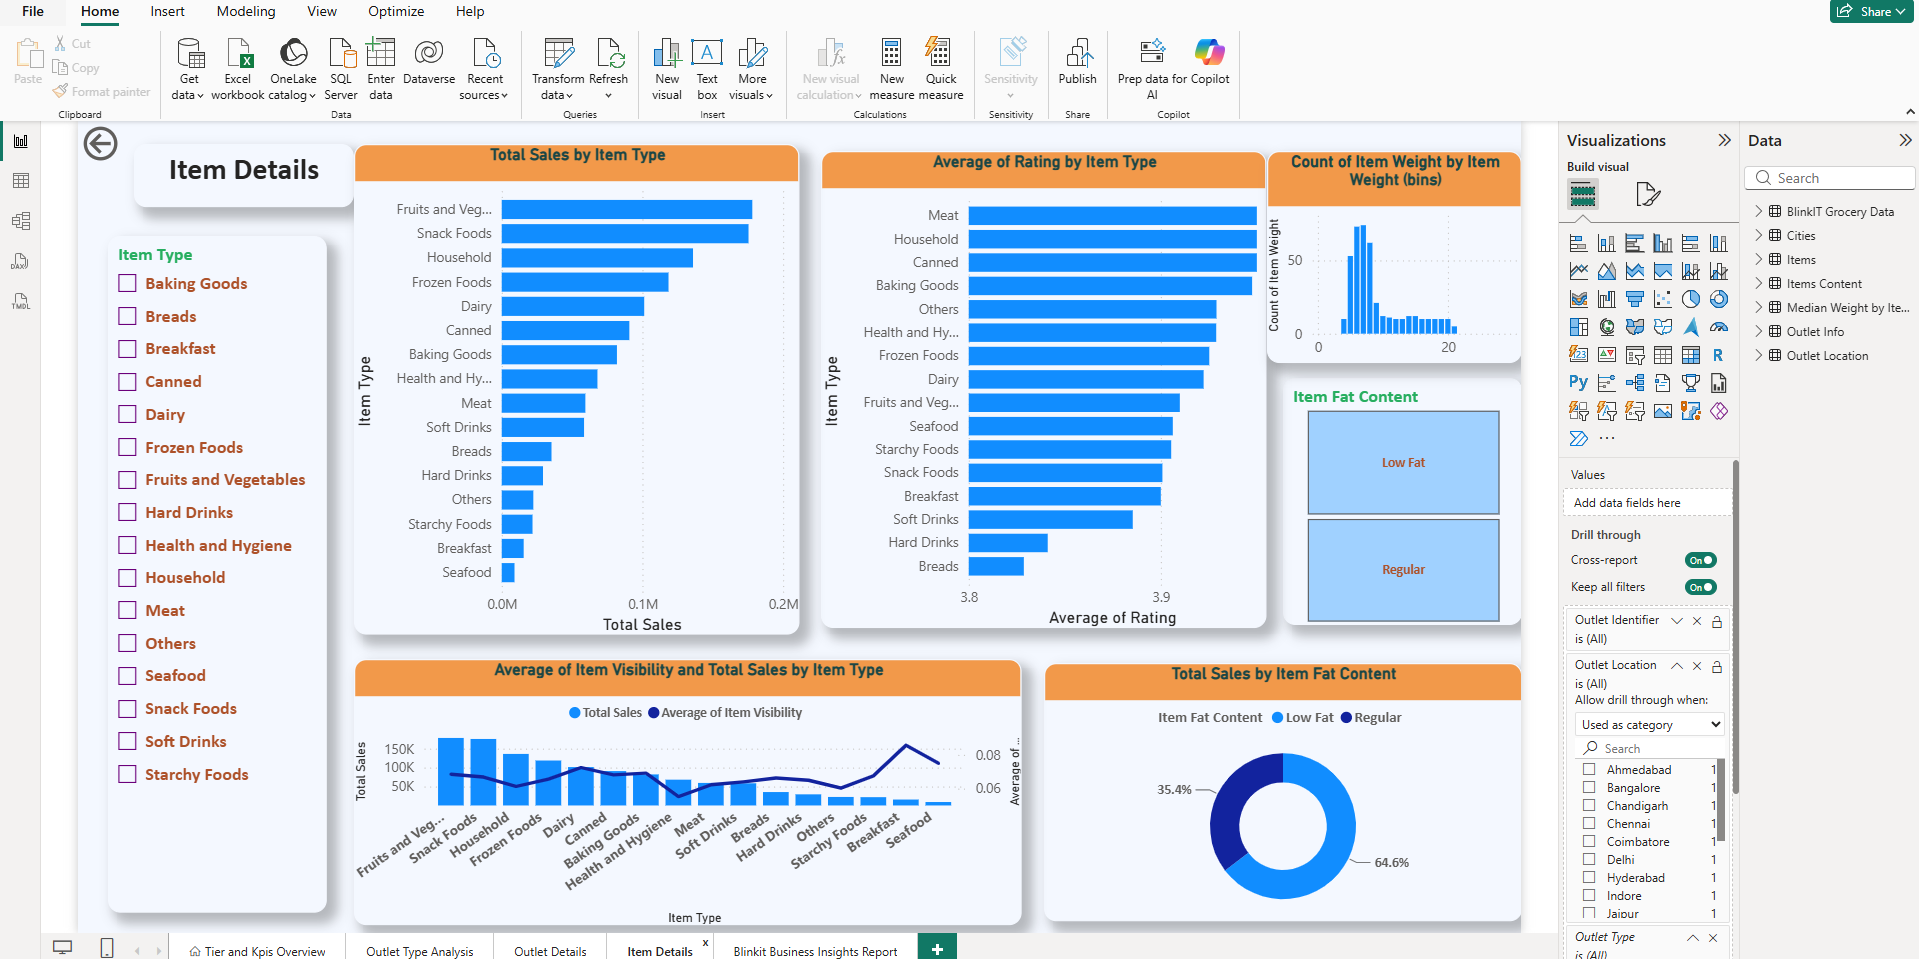

The page's visual inventory and layout, read from the dashboard file:
{"tool":"powerbi","page":{"name":"Item Details","canvas":[1280,720],"ordinal":3},"visuals":[{"type":"actionButton","box":[0,0,100,40],"z":0},{"type":"textbox","box":[50,20,195.4,56.2],"z":1000},{"type":"slicer","fields":{"Values":["Items.Item Type"]},"box":[27,102,178.9,493.3],"z":2000},{"type":"slicer","fields":{"Values":["Items Content.Item Fat Content"]},"box":[1101,228,127,219],"z":3000},{"type":"donutChart","fields":{"Category":["Items Content.Item Fat Content"],"Y":["BlinkIT Grocery Data.Total Sales"]},"box":[897,469,331,233],"z":4000},{"type":"clusteredBarChart","fields":{"Category":["Items.Item Type"],"Y":["Avg(BlinkIT Grocery Data.Rating)"]},"box":[681.5,26.9,373.1,422.3],"z":6000},{"type":"lineStackedColumnComboChart","title":"Average of Item Visibility and Total Sales  by Item Type","fields":{"Category":["Items.Item Type"],"Y2":["Avg(BlinkIT Grocery Data.Item Visibility)"],"Y":["BlinkIT Grocery Data.Total Sales"]},"box":[290,477,547,236],"z":7000},{"type":"clusteredColumnChart","fields":{"Y":["Count(BlinkIT Grocery Data.Item Weight)"],"Category":["BlinkIT Grocery Data.Item Weight (bins)"]},"box":[1090,0,149,215],"z":8000},{"type":"barChart","fields":{"Y":["BlinkIT Grocery Data.Total Sales"],"Category":["Items.Item Type"]},"box":[319.2,20,300,436.2],"z":8001}]}

Visuals, with their boxes on the page's 1280x720 design canvas (x1, y1, x2, y2). These are canvas units, not pixel positions in the 1919x959 screenshot, which may show the page scaled, cropped or inside an application window:
actionButton: left=0, top=0, right=100, bottom=40
textbox: left=50, top=20, right=245, bottom=76
slicer - Items.Item Type: left=27, top=102, right=206, bottom=595
slicer - Items Content.Item Fat Content: left=1101, top=228, right=1228, bottom=447
donutChart - Items Content.Item Fat Content x BlinkIT Grocery Data.Total Sales: left=897, top=469, right=1228, bottom=702
clusteredBarChart - Items.Item Type x Avg(BlinkIT Grocery Data.Rating): left=682, top=27, right=1055, bottom=449
"Average of Item Visibility and Total Sales  by Item Type" lineStackedColumnComboChart: left=290, top=477, right=837, bottom=713
clusteredColumnChart - Count(BlinkIT Grocery Data.Item Weight) x BlinkIT Grocery Data.Item Weight (bins): left=1090, top=0, right=1239, bottom=215
barChart - BlinkIT Grocery Data.Total Sales x Items.Item Type: left=319, top=20, right=619, bottom=456
